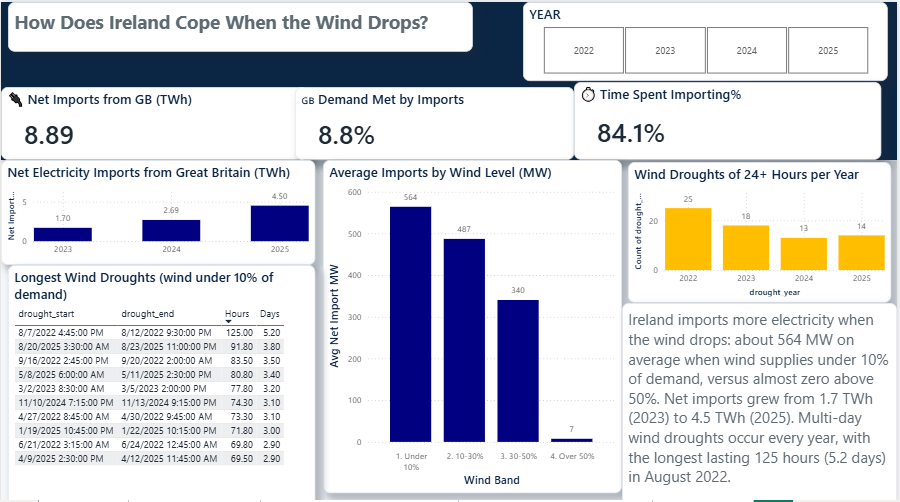

What the dashboard file says about the page in this screenshot:
{"tool":"powerbi","page":{"name":"Imports and Wind Droughts","canvas":[1280,720],"ordinal":3},"visuals":[{"type":"shape","box":[0,0,1280,225.7],"z":0},{"type":"textbox","box":[10,0,664.3,71.4],"z":1000},{"type":"slicer","title":"YEAR","fields":{"Values":["dim_date.year"]},"box":[745.7,0,521.4,112.9],"z":2000},{"type":"cardVisual","title":"🔌 Net Imports from GB (TWh)","fields":{"Data":["_Measures.Net Imports TWh"]},"box":[0,121.4,438.6,104.3],"z":3000},{"type":"cardVisual","title":"🇬🇧 Demand Met by Imports","fields":{"Data":["_Measures.Import Share %"]},"box":[420,121.4,398.6,104.3],"z":4000},{"type":"cardVisual","title":"⏱️ Time Spent Importing%","fields":{"Data":["_Measures.% Time Importing"]},"box":[818.6,114.3,438.6,111.4],"z":5000},{"type":"clusteredColumnChart","title":"Net Electricity Imports from Great Britain (TWh)","fields":{"Category":["dim_date.year"],"Y":["_Measures.Net Imports TWh"]},"box":[0,225.7,448.6,150],"z":6000},{"type":"clusteredColumnChart","title":"Average Imports by Wind Level (MW)","fields":{"Category":["fact_grid.Wind Band"],"Y":["_Measures.Avg Net Import MW"]},"box":[460,225.7,427.1,475.7],"z":7000},{"type":"clusteredColumnChart","title":"Wind Droughts of 24+ Hours per Year","fields":{"Category":["wind_droughts.drought_year"],"Y":["CountNonNull(wind_droughts.drought_start)"]},"box":[895.7,228.6,375.7,201.4],"z":8000},{"type":"tableEx","title":"Longest Wind Droughts (wind under 10% of demand)","fields":{"Values":["wind_droughts.drought_start","wind_droughts.drought_end","Sum(wind_droughts.duration_hours)","Sum(wind_droughts.duration_days)"]},"box":[10,375.7,438.6,344.3],"z":9000},{"type":"textbox","box":[887.1,430,392.9,290],"z":10000}]}

Visuals, with their boxes in screenshot pixels (x1, y1, x2, y2), scaled from the page's 1280x720 canvas onto the 900x502 screenshot:
shape: {"x1": 0, "y1": 0, "x2": 899, "y2": 157}
textbox: {"x1": 7, "y1": 0, "x2": 474, "y2": 50}
"YEAR" slicer: {"x1": 524, "y1": 0, "x2": 891, "y2": 79}
"🔌 Net Imports from GB (TWh)" cardVisual: {"x1": 0, "y1": 85, "x2": 308, "y2": 157}
"🇬🇧 Demand Met by Imports" cardVisual: {"x1": 295, "y1": 85, "x2": 576, "y2": 157}
"⏱️ Time Spent Importing%" cardVisual: {"x1": 576, "y1": 80, "x2": 884, "y2": 157}
"Net Electricity Imports from Great Britain (TWh)" clusteredColumnChart: {"x1": 0, "y1": 157, "x2": 315, "y2": 262}
"Average Imports by Wind Level (MW)" clusteredColumnChart: {"x1": 323, "y1": 157, "x2": 624, "y2": 489}
"Wind Droughts of 24+ Hours per Year" clusteredColumnChart: {"x1": 630, "y1": 159, "x2": 894, "y2": 300}
"Longest Wind Droughts (wind under 10% of demand)" tableEx: {"x1": 7, "y1": 262, "x2": 315, "y2": 501}
textbox: {"x1": 624, "y1": 300, "x2": 899, "y2": 501}
